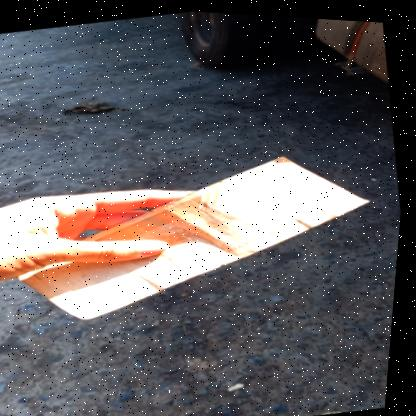five-back-vef: (3, 125, 392, 342)
